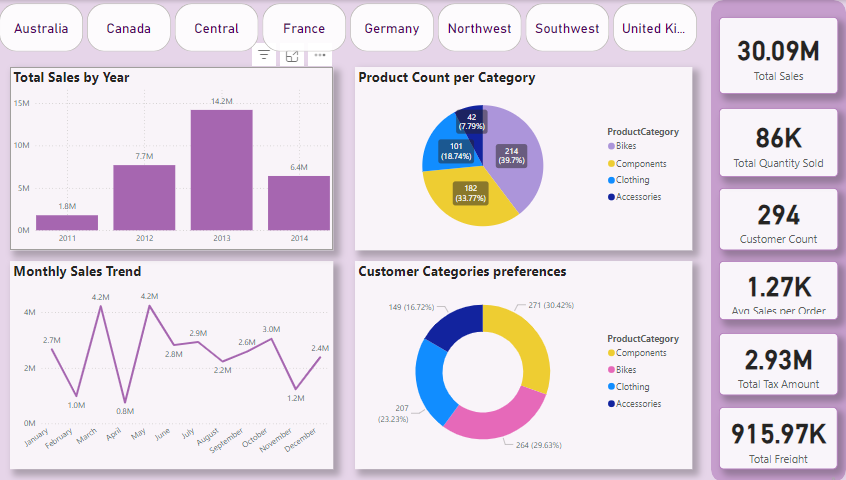

Layout of this report page (visuals, bound fields, positions):
{"tool":"powerbi","page":{"name":"Page 1","canvas":[1280,720],"ordinal":0},"visuals":[{"type":"shape","box":[1068,0,201.7,720],"z":0},{"type":"card","fields":{"Values":["Customer Measures.Customer Count"]},"box":[1080,280.7,177.8,92.6],"z":1000},{"type":"card","fields":{"Values":["Sales Measures.Average Sales per Order"]},"box":[1080,389.4,177.8,88.2],"z":2000},{"type":"card","fields":{"Values":["Sales Measures.Total Tax Amount"]},"box":[1080,498.1,177.8,92.6],"z":3000},{"type":"card","fields":{"Values":["Sales Measures.Total Sales"]},"box":[1080,25,177.8,114.6],"z":4000},{"type":"card","fields":{"Values":["Sales Measures.Total Quantity Sold"]},"box":[1080,161.6,177.8,102.9],"z":5000},{"type":"card","fields":{"Values":["Sales Measures.Total Freight Cost"]},"box":[1079.8,607.5,177.3,93.1],"z":6000},{"type":"lineChart","title":"Monthly Sales Trend","fields":{"Category":["Fact Table.OrderDate.Variation.Date Hierarchy.Month"],"Y":["Sum(Fact Table.LineTotal)"]},"box":[21.1,389.8,482.9,310.8],"z":7000},{"type":"clusteredColumnChart","title":"Total Sales by Year","fields":{"Category":["Fact Table.OrderDate.Variation.Date Hierarchy.Year"],"Y":["Sum(Fact Table.LineTotal)"]},"box":[21.1,100.1,482.9,273.9],"z":8000},{"type":"pieChart","title":"Product Count per Category","fields":{"Category":["Products.ProductCategory"],"Y":["CountNonNull(Products.ProductID)"]},"box":[535.5,100.1,503.9,273.9],"z":9000},{"type":"donutChart","title":"Customer Categories preferences","fields":{"Y":["Customer Measures.Customer Count"],"Category":["Products.ProductCategory"]},"box":[535.5,389.8,503.9,310.8],"z":10000},{"type":"advancedSlicerVisual","fields":{"Values":["Territory.Territory"]},"box":[0,0,1057.6,82.2],"z":11000}]}

Visuals, with their boxes in screenshot pixels (x1, y1, x2, y2), scaled from the page's 1280x720 canvas onto the 846x480 screenshot:
shape: <region>706, 0, 839, 479</region>
card - Customer Measures.Customer Count: <region>714, 187, 831, 249</region>
card - Sales Measures.Average Sales per Order: <region>714, 260, 831, 318</region>
card - Sales Measures.Total Tax Amount: <region>714, 332, 831, 394</region>
card - Sales Measures.Total Sales: <region>714, 17, 831, 93</region>
card - Sales Measures.Total Quantity Sold: <region>714, 108, 831, 176</region>
card - Sales Measures.Total Freight Cost: <region>714, 405, 831, 467</region>
"Monthly Sales Trend" lineChart: <region>14, 260, 333, 467</region>
"Total Sales by Year" clusteredColumnChart: <region>14, 67, 333, 249</region>
"Product Count per Category" pieChart: <region>354, 67, 687, 249</region>
"Customer Categories preferences" donutChart: <region>354, 260, 687, 467</region>
advancedSlicerVisual - Territory.Territory: <region>0, 0, 699, 55</region>
